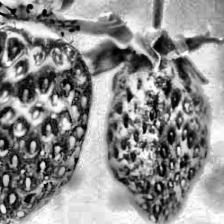Gray Mold: (104, 49, 210, 224)
